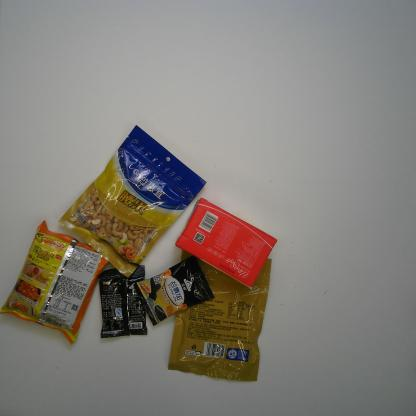Dried Fruit: (57, 124, 208, 279), (167, 250, 273, 382)
Instant Drink: (134, 254, 216, 327), (98, 264, 148, 340)
Instant Noodles: (0, 219, 110, 345)
Tissue: (174, 197, 278, 290)
